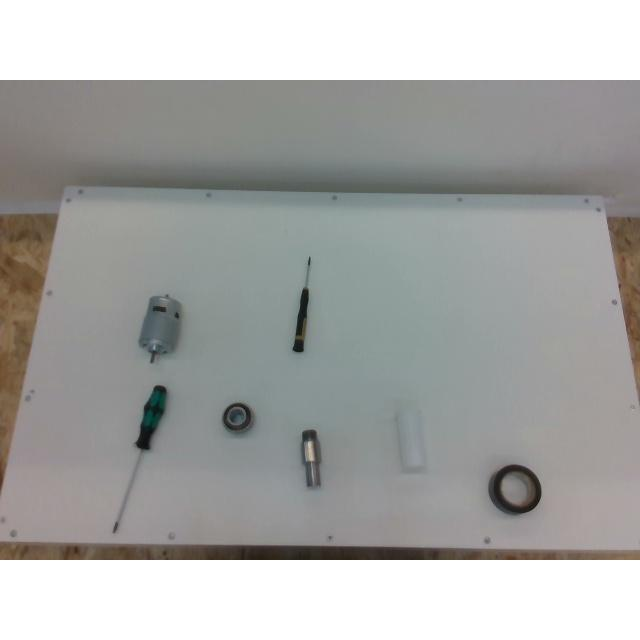Axis2: (301, 428, 321, 488)
Bearing2: (222, 401, 254, 433)
Motor2: (139, 294, 181, 362)
Screwdriver: (112, 385, 166, 533)
Spacer: (396, 406, 424, 472)
